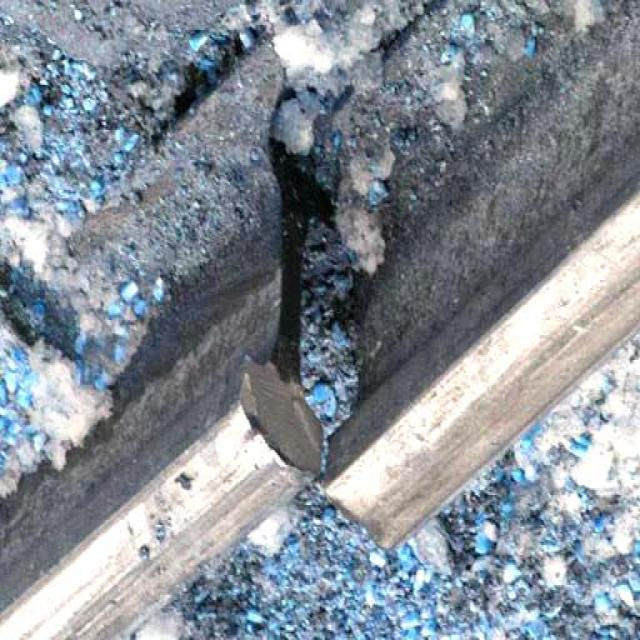broken_rail_high: (240, 60, 418, 555)
